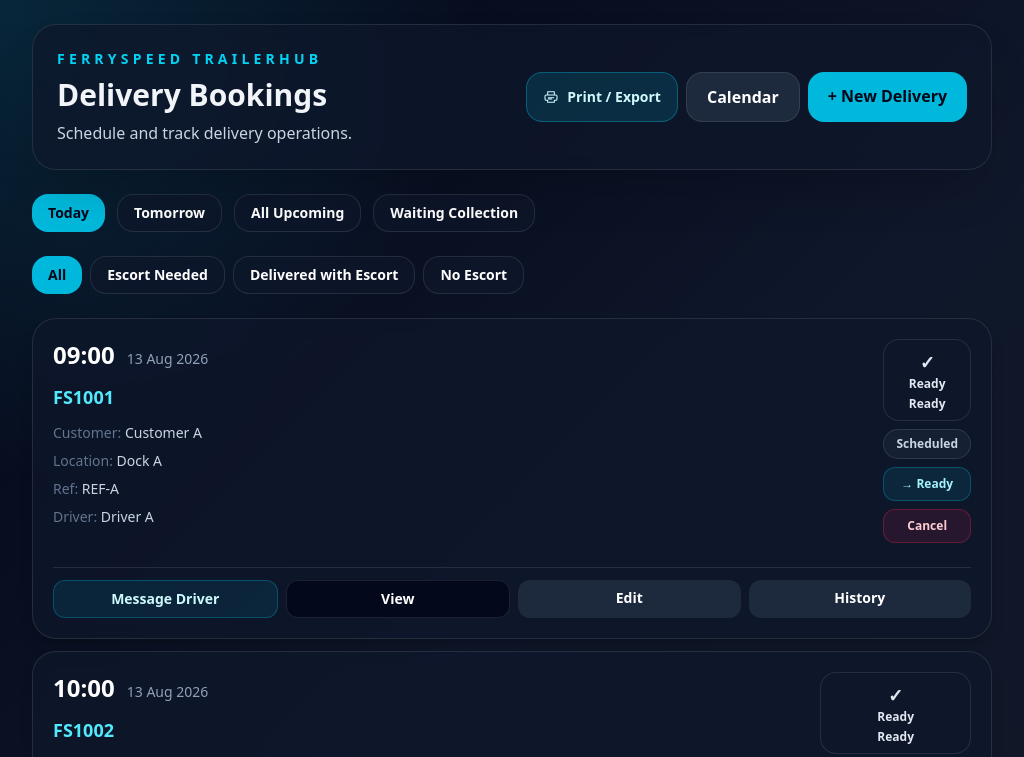
Test case: DeliveriesPage › filters deliveries completed with escort
Expected: the text "Driver A" is shown, [101, 507, 154, 526]
Click the button "Delivered with Escort": (324,275) [233, 256, 415, 294]
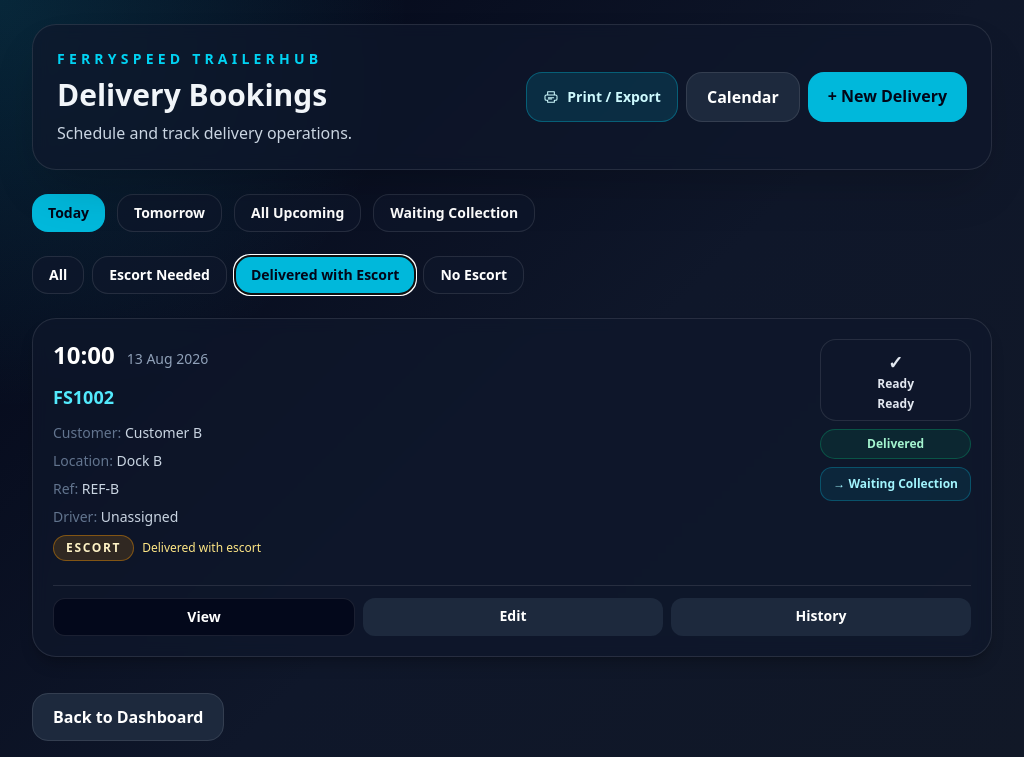
Expected: the text "FS1002" is shown, [53, 385, 114, 409]
Result: the text "FS1001" is gone
